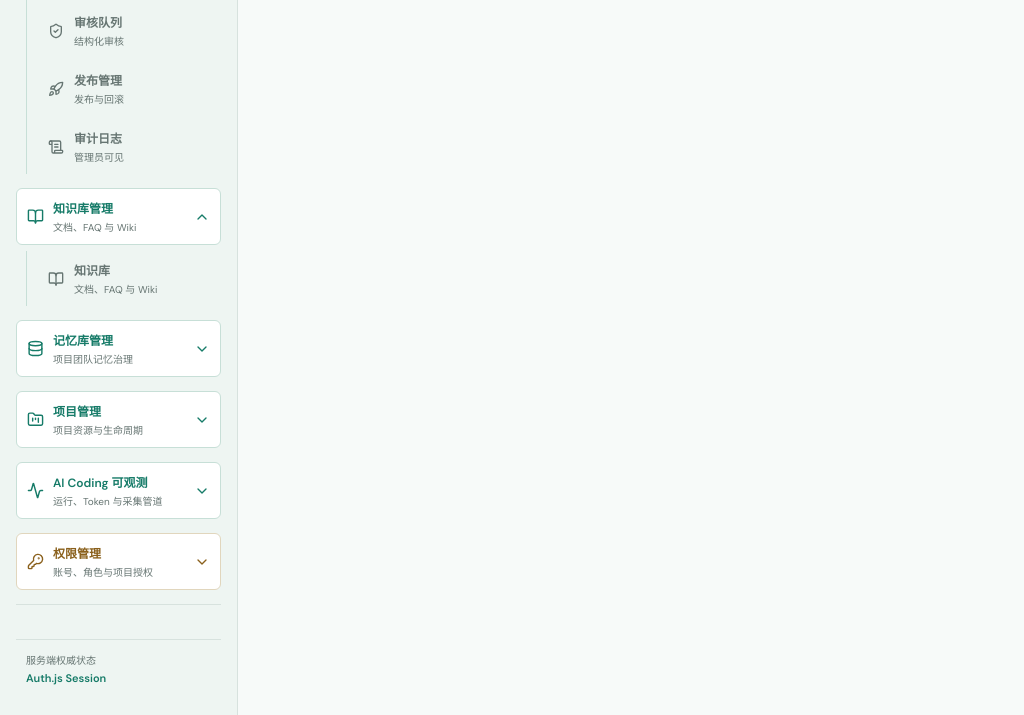
it: admin telemetry console › shows the server-confirmed empty state instead of demo data
The width and height of the screenshot is (1024, 715).
(page scrolled)
Click the button "AI Coding 可观测 运行、Token 与采集管道".
click(118, 490)  # box [16,462,221,519]
(page scrolled)
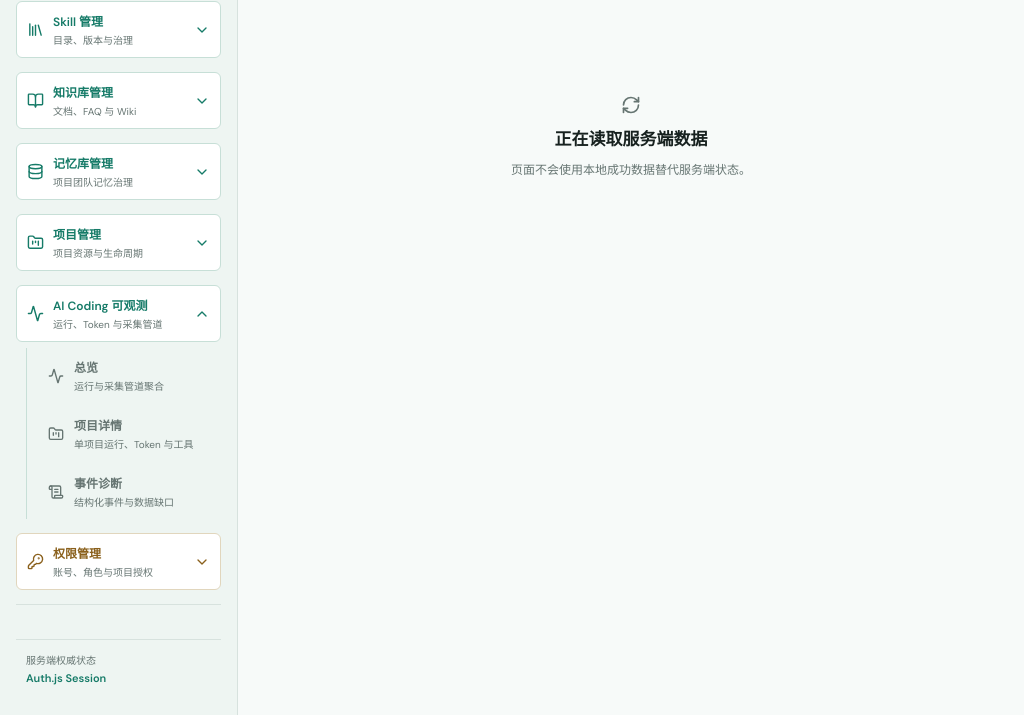
Click the button named "总览运行与采集管道聚合".
click(129, 376)  # box [37,348,221,403]
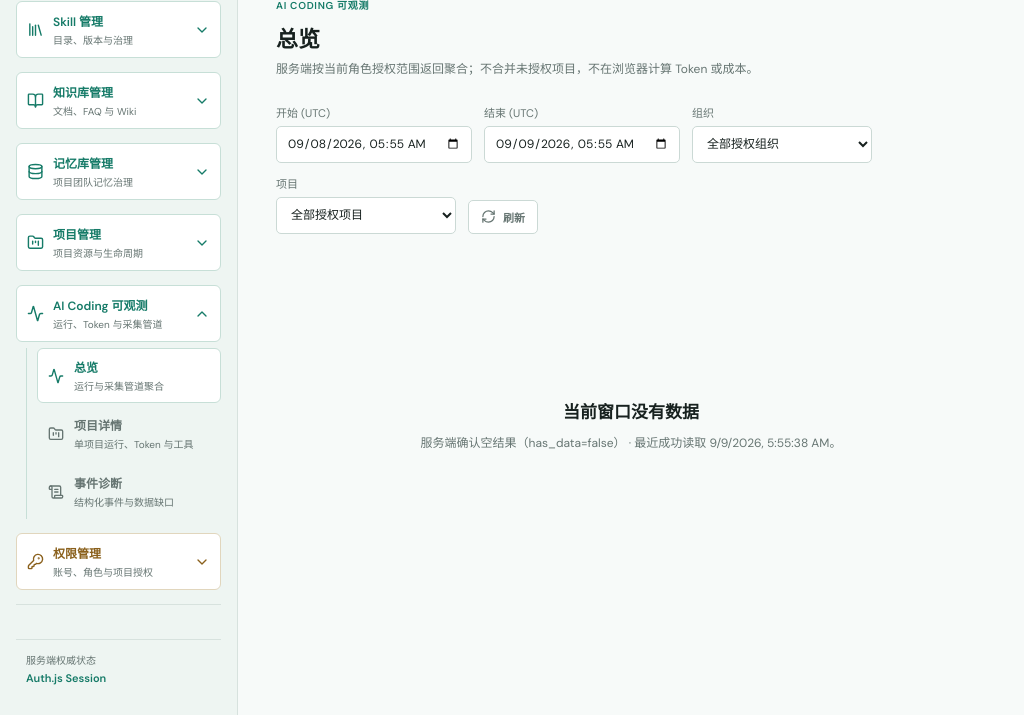
Now the heading "当前窗口没有数据" is shown, box [563,398,699,423]
